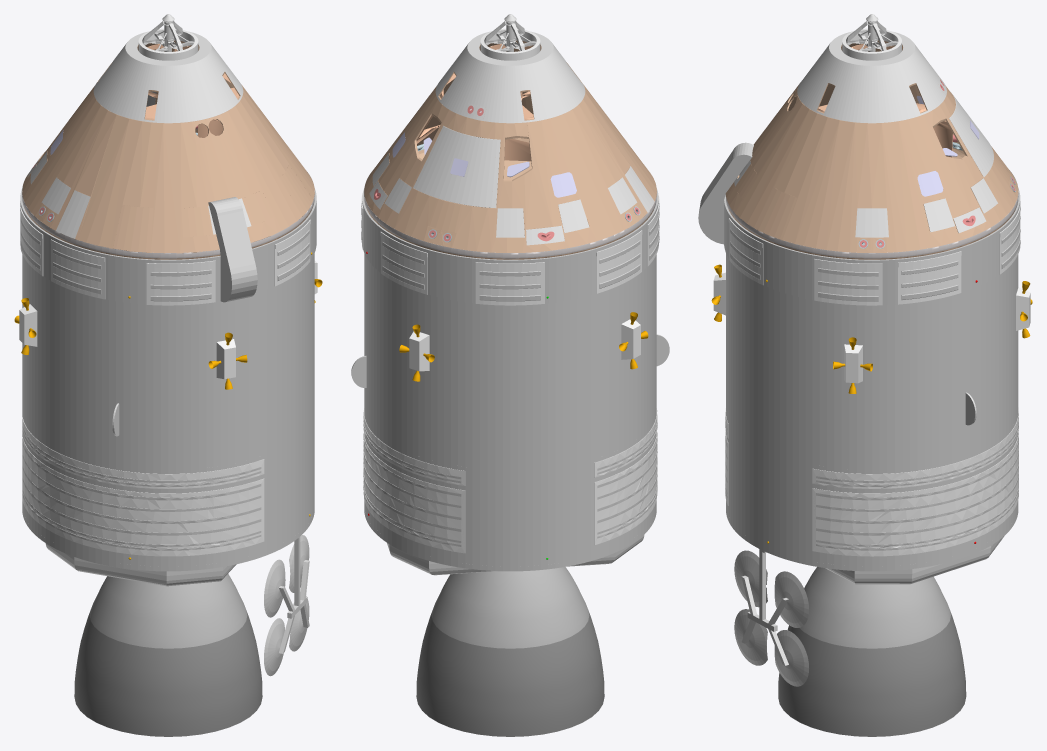
File: apollo-csm.glb
3 renders of one model, left to right at view 1: azimuth 30°, elevation 25°; view 2: azimuth 150°, elevation 25°; view 3: azimuth 270°, elevation 25°, orthographic.
Visible parts, largest first — view 1: CM-Heat Shield-Central-Outer, SM ECS Radiator B, SM Side-Sector 3, SM-Engine Bell, SM Side-Sector 2, SM Side-Sector 4, SM Quad Panel, +Z Axis-Sector 3, SM-Thrust Chamber, CM-Fwd_HtShld-Mylar.001, SM Fairing Sides, CSM Umbilical Cover, EPS Radiator E (+18 smaller); view 2: SM Side-Sector 1, CM-Heat Shield-Central-Outer, SM-Engine Bell, SM-Thrust Chamber, SM Quad Panel, -Z Axis-Sector 6, SM Side-Sector 6, CM-Fwd_HtShld-Mylar.001, SM ECS Radiator A, SM Quad Panel, +Y Axis-Sector 2, SM Fairing Sides, SM ECS Radiator B, SM Side-Sector 2 (+19 smaller); view 3: CM-Heat Shield-Central-Outer, SM Side-Sector 5, SM Side-Sector 4, SM ECS Radiator A, SM-Engine Bell, SM Quad Panel, -Y Axis-Sector 5, SM-Thrust Chamber, CM-Fwd_HtShld-Mylar.001, SM Side-Sector 6, SM Fairing Sides, SM-Hi-Gain Antenna, EPS Radiator G (+21 smaller).
Part boxes in pixels (left/top/right/bottom): CM-Heat Shield-Central-Outer: left=22, top=78, right=314, bottom=253; SM ECS Radiator B: left=22, top=417, right=264, bottom=556; SM Side-Sector 3: left=125, top=302, right=268, bottom=566; SM-Engine Bell: left=74, top=610, right=262, bottom=736; SM Side-Sector 2: left=22, top=276, right=125, bottom=563; SM Side-Sector 4: left=268, top=253, right=314, bottom=549; SM Quad Panel, +Z Axis-Sector 3: left=206, top=289, right=268, bottom=467; SM-Thrust Chamber: left=89, top=574, right=247, bottom=648; CM-Fwd_HtShld-Mylar.001: left=93, top=31, right=243, bottom=123; SM Fairing Sides: left=20, top=188, right=316, bottom=304; CSM Umbilical Cover: left=208, top=197, right=257, bottom=302; EPS Radiator E: left=146, top=260, right=215, bottom=305; SM Side-Sector 1: left=467, top=295, right=590, bottom=566; CM-Heat Shield-Central-Outer: left=364, top=78, right=656, bottom=252; SM-Engine Bell: left=416, top=610, right=604, bottom=736; SM-Thrust Chamber: left=431, top=567, right=589, bottom=648; SM Quad Panel, -Z Axis-Sector 6: left=407, top=288, right=467, bottom=467; SM Side-Sector 6: left=368, top=260, right=467, bottom=563; CM-Fwd_HtShld-Mylar.001: left=435, top=31, right=585, bottom=123; SM ECS Radiator A: left=363, top=408, right=465, bottom=553; SM Quad Panel, +Y Axis-Sector 2: left=590, top=276, right=637, bottom=459; SM Fairing Sides: left=362, top=188, right=658, bottom=303; SM ECS Radiator B: left=594, top=408, right=657, bottom=545; SM Side-Sector 2: left=590, top=254, right=656, bottom=556; CM-Heat Shield-Central-Outer: left=725, top=82, right=1018, bottom=252; SM Side-Sector 5: left=805, top=289, right=971, bottom=566; SM Side-Sector 4: left=729, top=261, right=805, bottom=559; SM ECS Radiator A: left=812, top=407, right=1018, bottom=556; SM-Engine Bell: left=778, top=610, right=966, bottom=736; SM Quad Panel, -Y Axis-Sector 5: left=805, top=299, right=872, bottom=469; SM-Thrust Chamber: left=799, top=567, right=950, bottom=648; CM-Fwd_HtShld-Mylar.001: left=797, top=31, right=946, bottom=123; SM Side-Sector 6: left=972, top=263, right=1018, bottom=549; SM Fairing Sides: left=724, top=188, right=1020, bottom=304; SM-Hi-Gain Antenna: left=734, top=550, right=808, bottom=686; EPS Radiator G: left=814, top=259, right=882, bottom=305.
Size of the model in its own units: 16.88 by 39.67 by 17.6.
